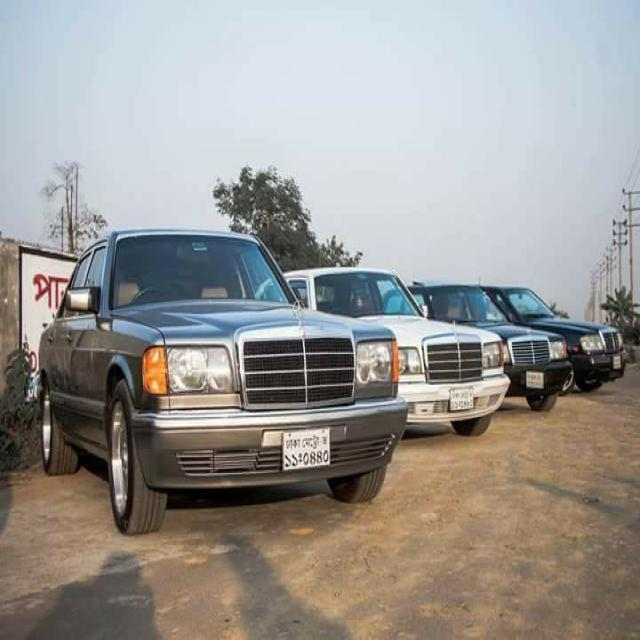numberplate: (281, 426, 331, 472), (448, 386, 475, 412), (526, 369, 546, 389)
